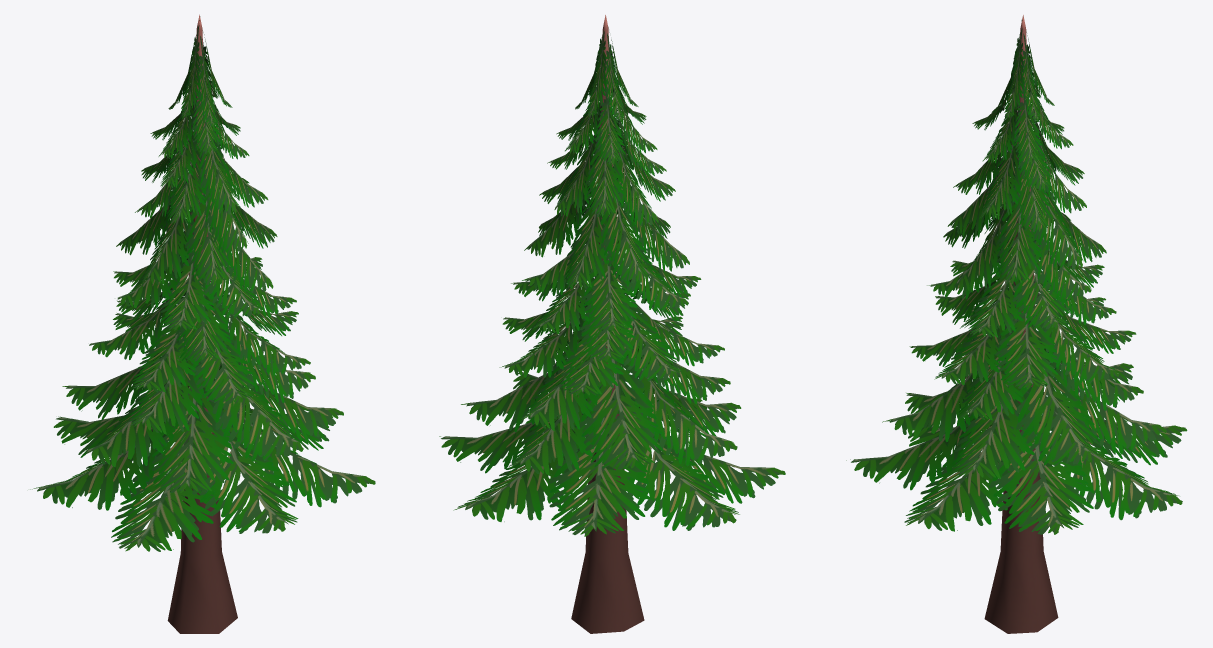
File: Pine_Tree_1A.fbx
3 renders of one model, left to right at view 1: azimuth 30°, elevation 25°; view 2: azimuth 150°, elevation 25°; view 3: azimuth 270°, elevation 25°, orthographic.
Parts seen in each view (by area): view 1: Pine_Tree_1A; view 2: Pine_Tree_1A; view 3: Pine_Tree_1A.
Boxes of the visible parts, <box> form: Pine_Tree_1A: <box>30,14,375,633</box>; Pine_Tree_1A: <box>439,15,785,633</box>; Pine_Tree_1A: <box>846,15,1187,633</box>.
Bounding box in the file's own units: 277 × 486 × 270.
